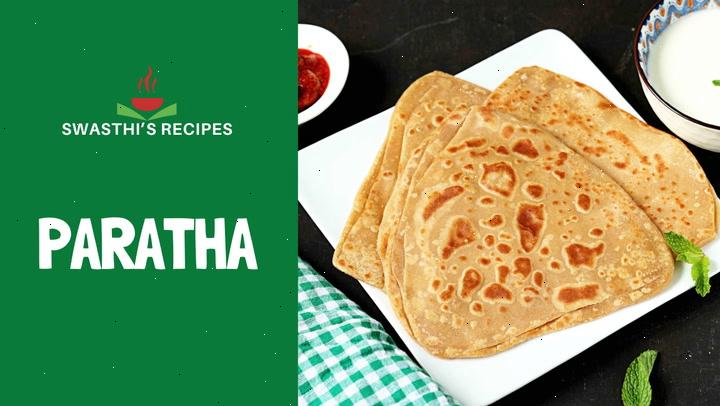paratha: (369, 70, 675, 369)
yogurt: (627, 1, 720, 136)
